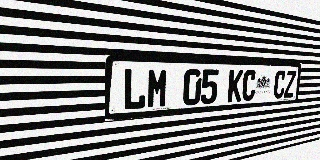0: (182, 69, 202, 106)
5: (200, 69, 219, 105)
C: (241, 70, 257, 101), (273, 70, 286, 99)
K: (227, 70, 244, 102)
L: (122, 68, 147, 111)
M: (146, 68, 169, 109)
Z: (284, 71, 296, 98)
